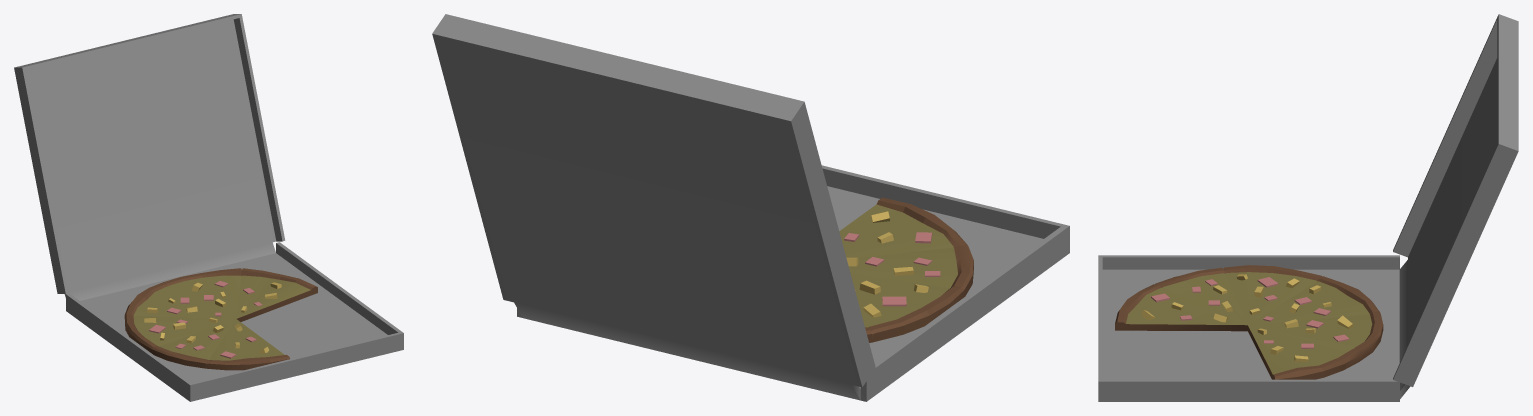
File: Pizza_w_Box.fbx
3 renders of one model, left to right at view 1: azimuth 30°, elevation 25°; view 2: azimuth 150°, elevation 25°; view 3: azimuth 270°, elevation 25°, orthographic. The views are drawn at different scales.
Parts seen in each view (by area): view 1: Pizza_Box, Pizza; view 2: Pizza_Box, Pizza; view 3: Pizza_Box, Pizza.
Boxes of the visible parts, bbox=[...] form: Pizza_Box: bbox=[14, 14, 403, 401]; Pizza: bbox=[124, 268, 317, 370]; Pizza_Box: bbox=[432, 14, 1069, 401]; Pizza: bbox=[839, 197, 973, 342]; Pizza_Box: bbox=[1098, 14, 1518, 401]; Pizza: bbox=[1115, 265, 1383, 379].
Bounding box in the file's own units: 45.87 × 42.79 × 62.74.
